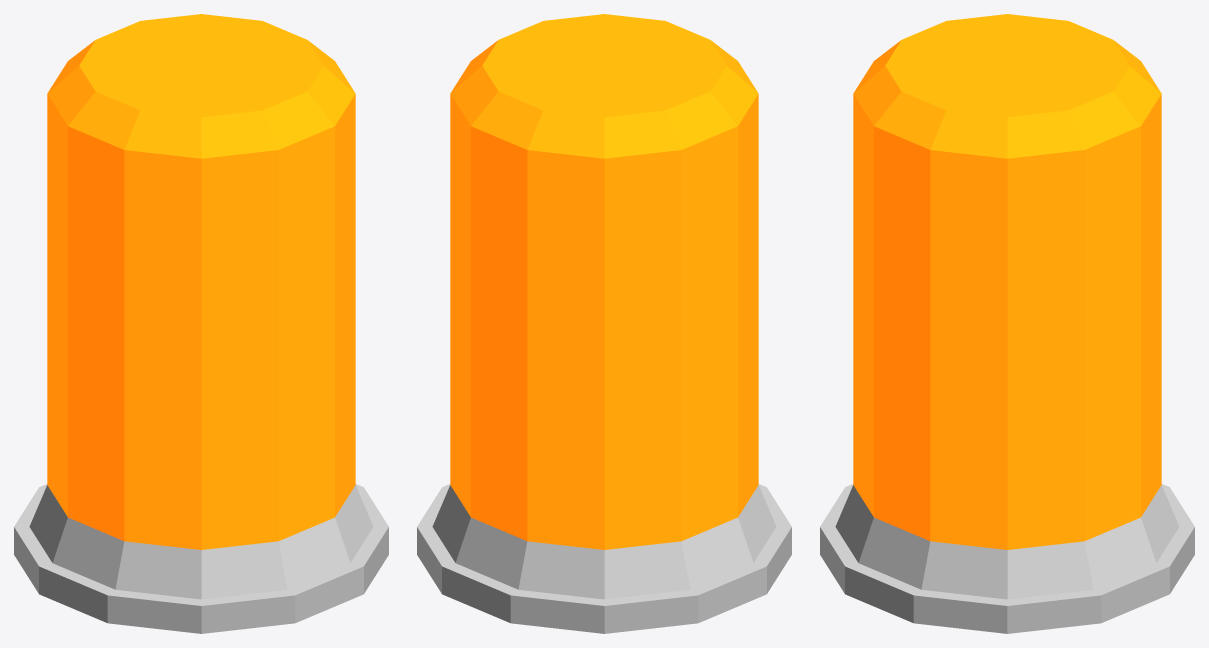
The model's file is firewall.glb.
The picture shows the model from 3 angles, left to right: view 1: azimuth 30°, elevation 25°; view 2: azimuth 150°, elevation 25°; view 3: azimuth 270°, elevation 25°; orthographic projection.
Visible parts, largest first — view 1: firewall_barrier, firewall_frame; view 2: firewall_barrier, firewall_frame; view 3: firewall_barrier, firewall_frame.
Boxes of the visible parts, left/top/right/bottom form: firewall_barrier: left=47, top=14, right=355, bottom=549; firewall_frame: left=14, top=484, right=388, bottom=633; firewall_barrier: left=450, top=14, right=758, bottom=549; firewall_frame: left=417, top=484, right=791, bottom=633; firewall_barrier: left=853, top=14, right=1161, bottom=549; firewall_frame: left=820, top=484, right=1194, bottom=633.
Size of the model in its own units: 2.43 by 3.5 by 2.43.
